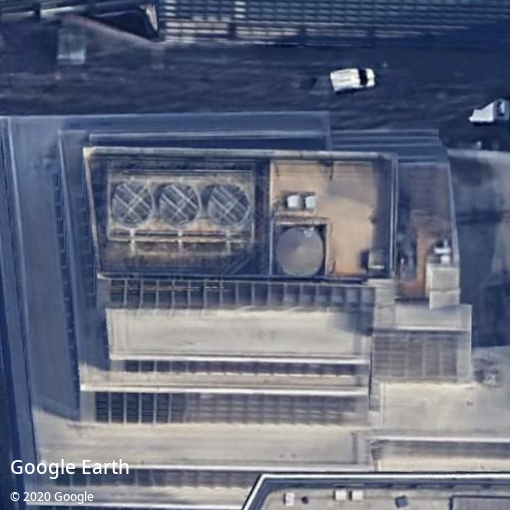Vent: (111, 181, 153, 228), (157, 180, 199, 227), (206, 181, 249, 226)
